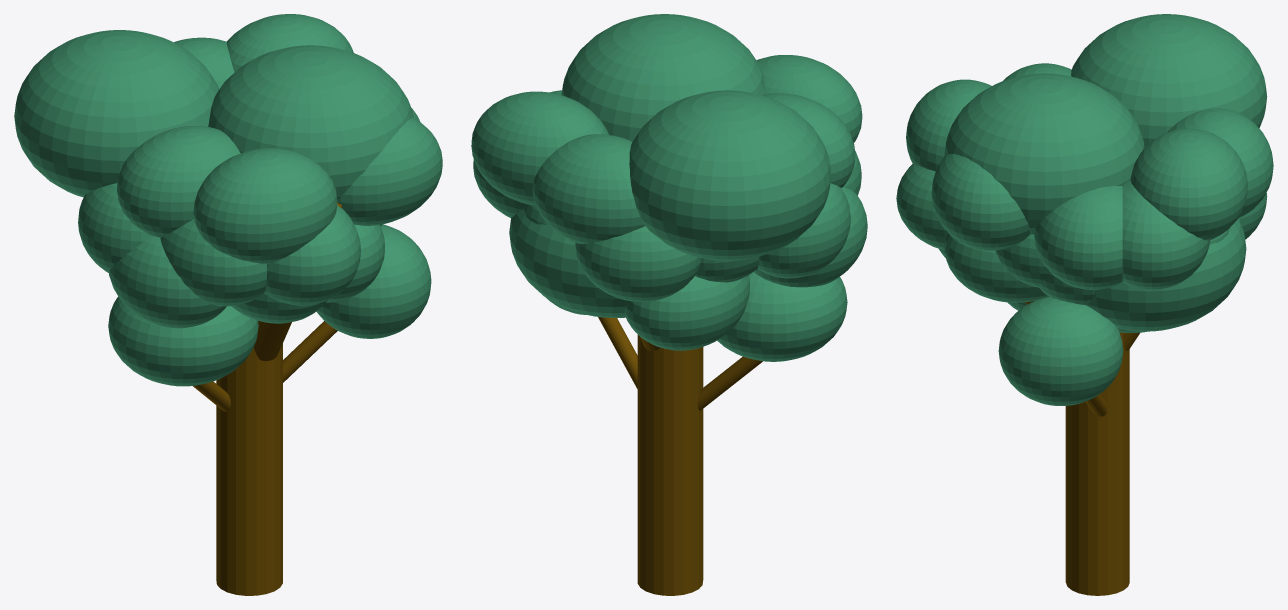
Rendered from Tree.glb.
3 renders of one model, left to right at view 1: azimuth 30°, elevation 25°; view 2: azimuth 150°, elevation 25°; view 3: azimuth 270°, elevation 25°, orthographic. The views are drawn at different scales.
Parts seen in each view (by area): view 1: Mesh_Mesh_head_geo.001_lambert2SG.001; view 2: Mesh_Mesh_head_geo.001_lambert2SG.001; view 3: Mesh_Mesh_head_geo.001_lambert2SG.001.
Part boxes in pixels (x1,y1,x2,y2): Mesh_Mesh_head_geo.001_lambert2SG.001: (14,14,442,595); Mesh_Mesh_head_geo.001_lambert2SG.001: (471,14,867,595); Mesh_Mesh_head_geo.001_lambert2SG.001: (896,14,1273,595).
Size of the model in its own units: 0.121 by 0.177 by 0.118.
